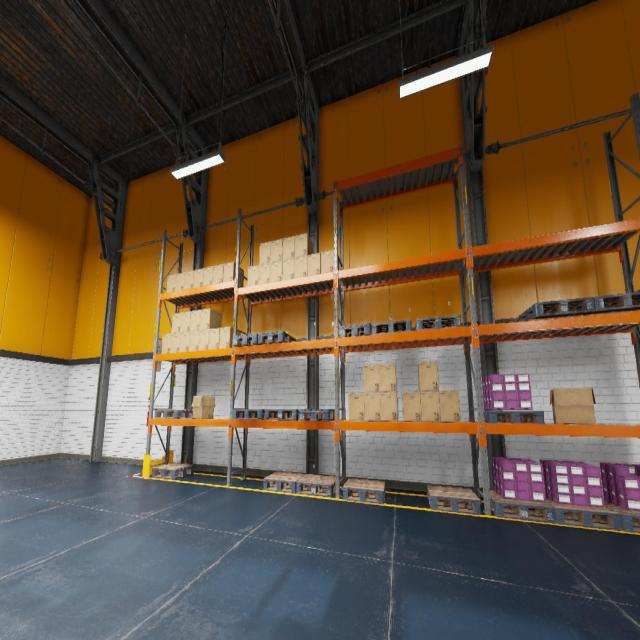box: (550, 388, 596, 424), (439, 390, 460, 422), (420, 391, 440, 421), (402, 391, 422, 421), (418, 360, 438, 390), (191, 396, 215, 418), (380, 392, 398, 421), (223, 262, 244, 286), (379, 363, 396, 392), (219, 326, 241, 348), (200, 308, 222, 330), (363, 364, 380, 392), (364, 392, 380, 421), (349, 392, 364, 421), (295, 233, 313, 257), (321, 250, 338, 273), (294, 255, 307, 278), (282, 236, 295, 259), (308, 252, 320, 276), (270, 238, 282, 262), (259, 241, 271, 264), (282, 258, 294, 280), (270, 260, 282, 282), (208, 328, 220, 349), (247, 265, 259, 286), (259, 262, 270, 284), (198, 329, 209, 350), (180, 311, 191, 332), (179, 332, 190, 352), (189, 330, 199, 351), (190, 310, 200, 331), (172, 312, 182, 333), (170, 332, 180, 352), (213, 264, 223, 284), (203, 266, 213, 286), (161, 334, 171, 353), (194, 268, 204, 287), (184, 270, 194, 289), (175, 272, 185, 290), (166, 274, 176, 292)
pallets: (546, 497, 622, 531), (489, 490, 555, 523), (518, 297, 595, 321), (427, 485, 481, 515), (584, 292, 640, 315), (604, 500, 640, 533), (343, 478, 385, 504), (296, 474, 336, 497), (263, 472, 306, 493), (414, 314, 461, 330), (483, 411, 544, 423), (152, 463, 194, 479), (372, 320, 412, 334), (258, 331, 296, 344), (340, 323, 371, 337), (299, 409, 335, 421), (233, 334, 265, 346), (232, 409, 270, 419), (265, 409, 299, 420), (154, 409, 193, 418)
